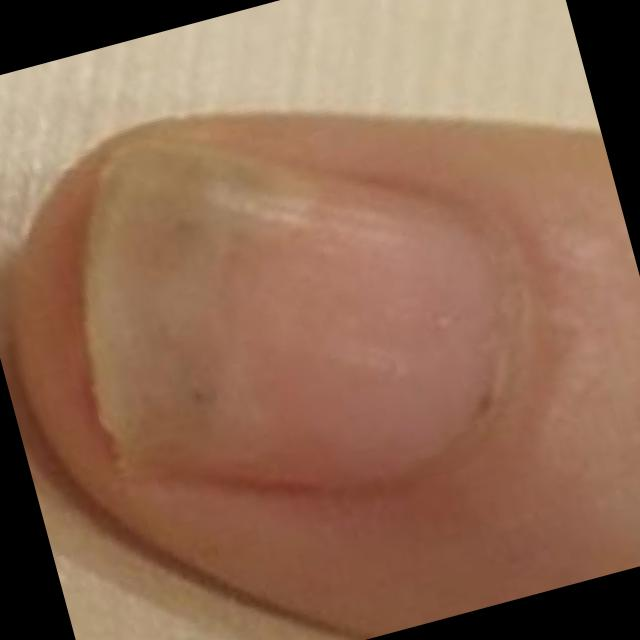Nail: (84, 143, 506, 484)
